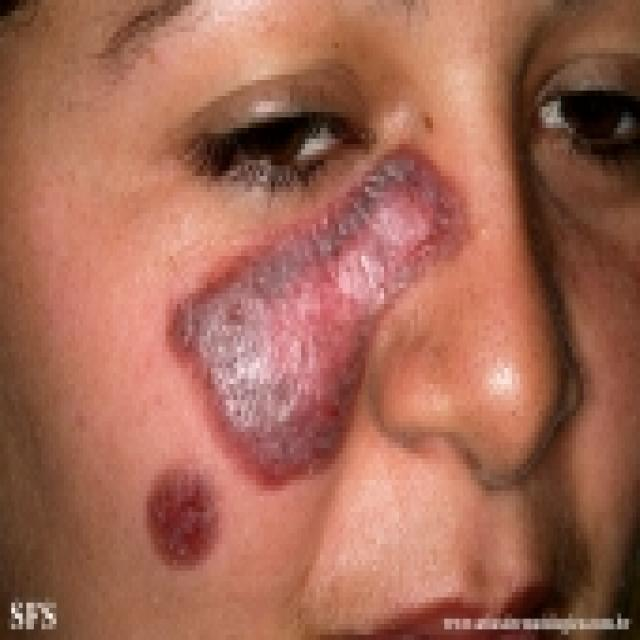lupus: (136, 132, 461, 586)
